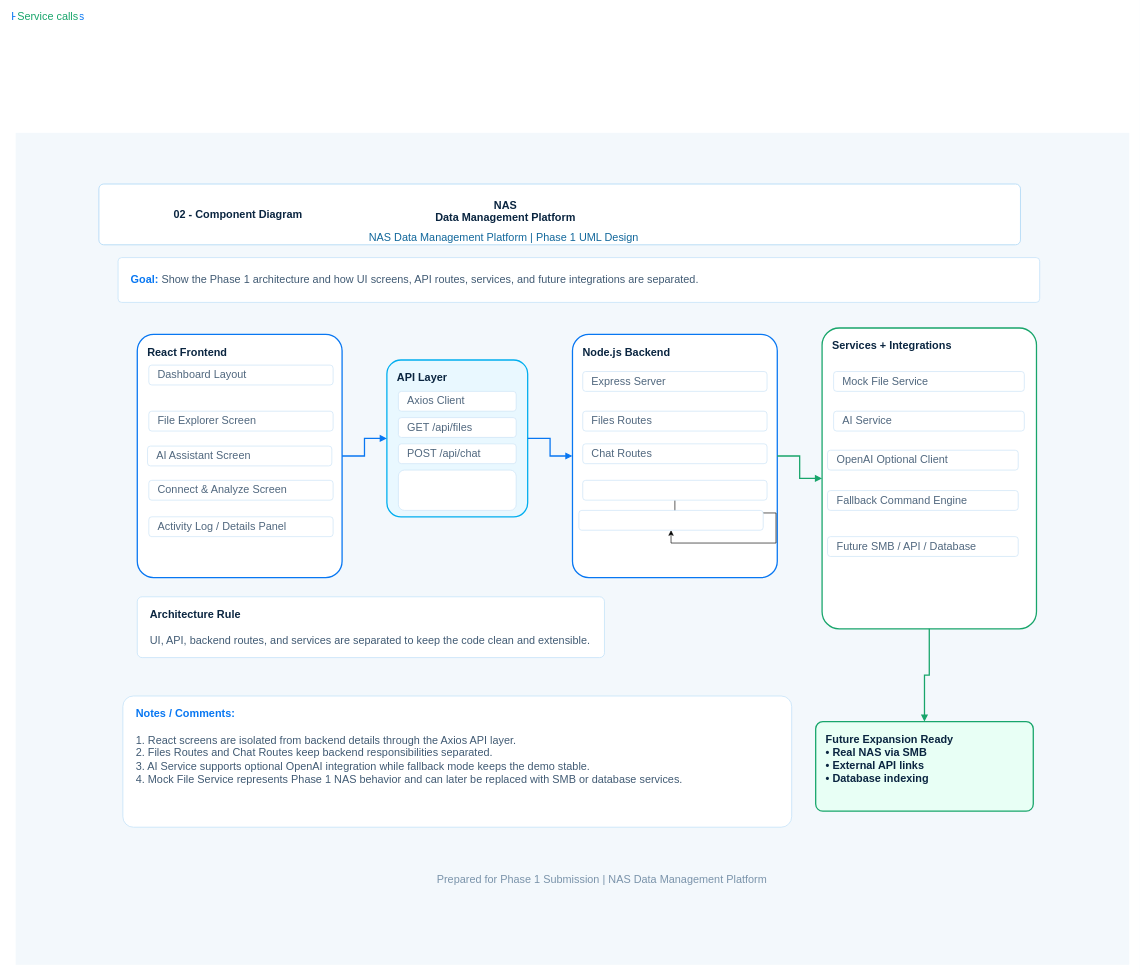
The diagram is 1140 pixels wide and 975 high, and some of its shapes have lost their labels. Each missing label, with the centre of its shape:
"Environment Configuration" goes at pixel 670 520.
"POST /api/files/rename" goes at pixel 457 489.
"Validation / Error Handling" goes at pixel 674 490.
